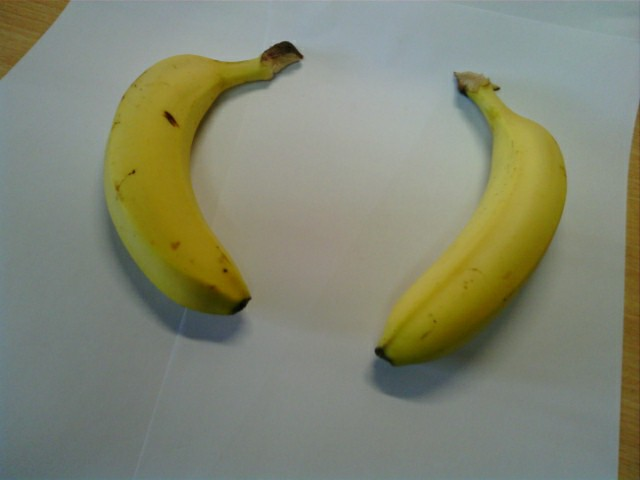fresh_banana: (376, 83, 569, 370)
normal_banana: (106, 49, 258, 317)
